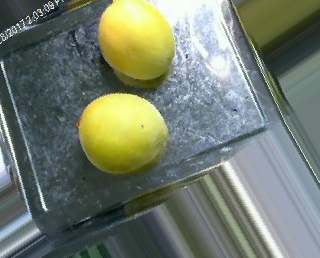Mango: (75, 88, 170, 179), (96, 1, 179, 83)
